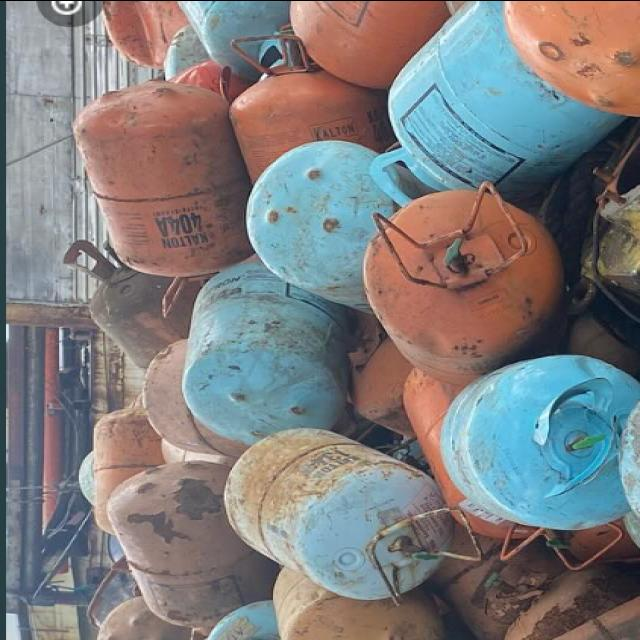cylinder: (367, 2, 624, 206), (224, 427, 484, 605), (72, 77, 255, 317), (363, 179, 563, 384), (440, 355, 638, 529)
